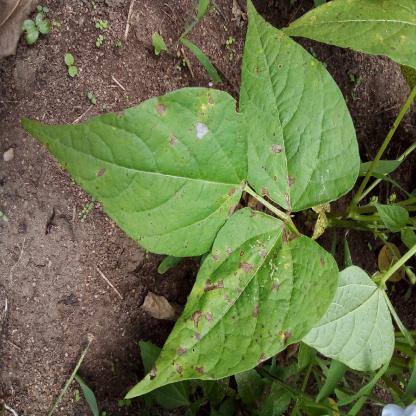Beans_Angular_LeafSpot: (21, 66, 315, 192), (173, 152, 416, 298), (320, 16, 416, 162)
